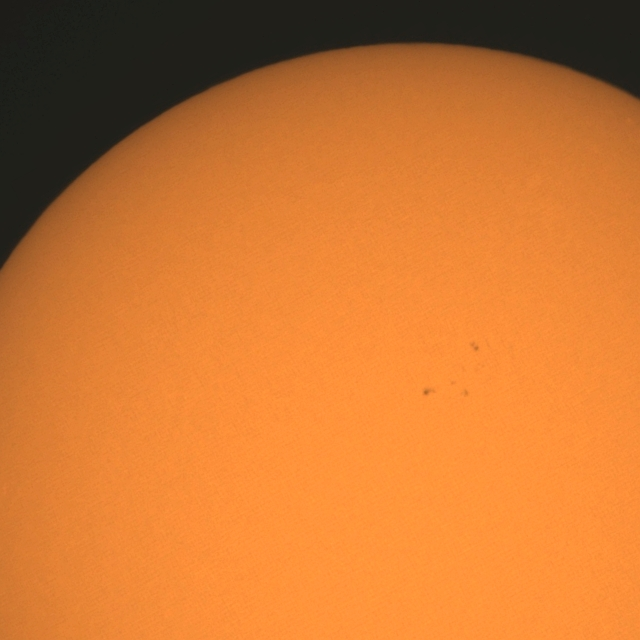sunspot: (450, 380, 470, 398), (422, 386, 437, 397), (469, 340, 480, 352), (460, 388, 470, 399)
